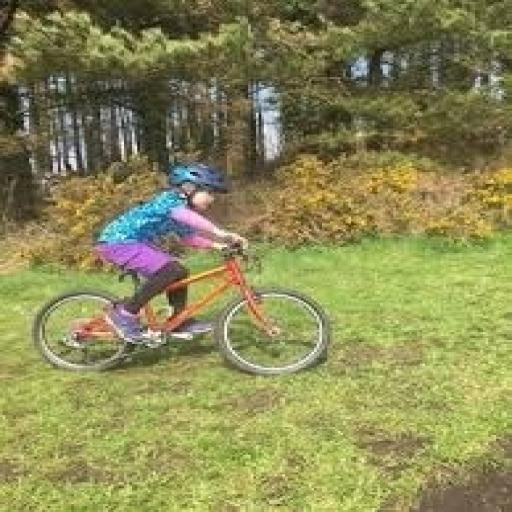cycling: (90, 160, 253, 348)
